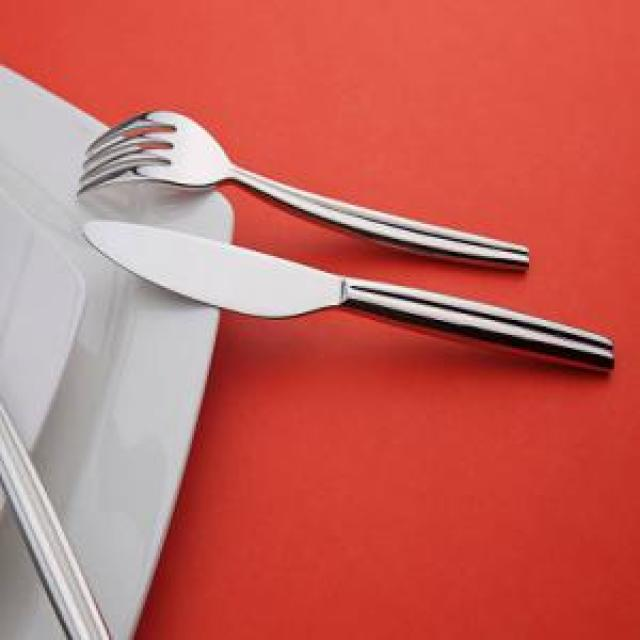knife: (77, 218, 618, 380)
